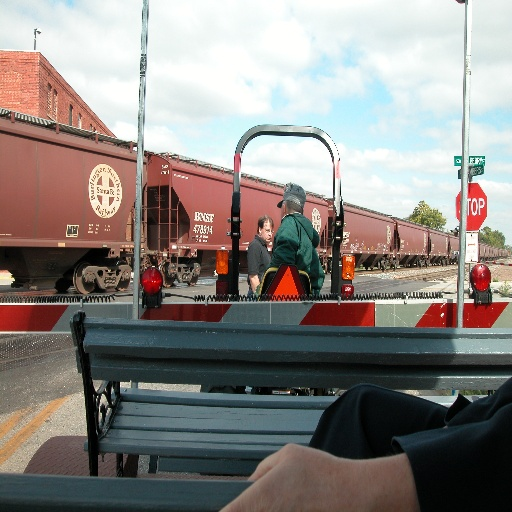hand: (223, 443, 388, 512)
